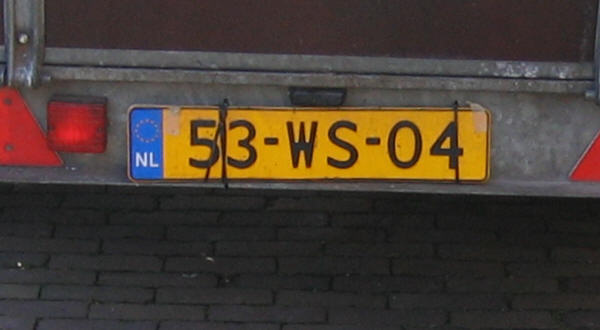license_plate: (126, 102, 494, 184)
